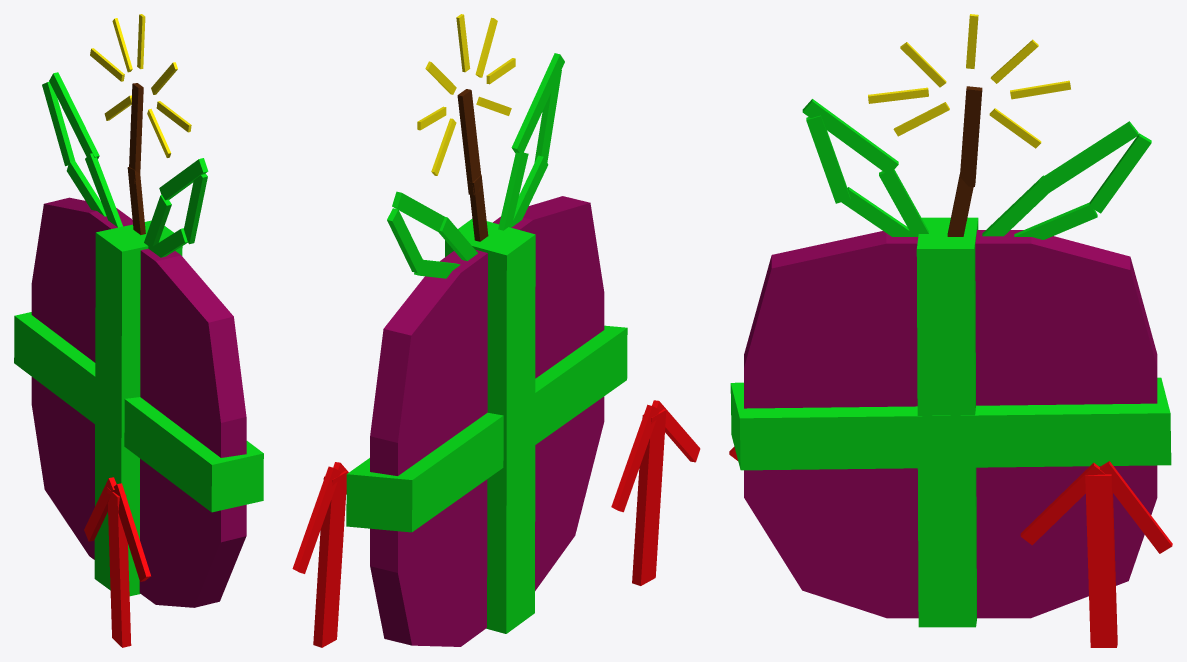
The model's file is BoomJumppowerUPicon3.fbx.
The picture shows the model from 3 angles, left to right: view 1: azimuth 30°, elevation 25°; view 2: azimuth 150°, elevation 25°; view 3: azimuth 270°, elevation 25°; orthographic projection. The views are drawn at different scales.
Visible parts, largest first — view 1: Cube, Cube.002, Cube.001, Cube.020, Cube.022, Cube.008, Cube.012, Cube.007, Cube.003, Cube.010, Cube.009, Cube.011 (+6 smaller); view 2: Cube, Cube.001, Cube.002, Cube.020, Cube.023, Cube.024, Cube.021, Cube.012, Cube.009, Cube.004, Cube.007, Cube.010 (+6 smaller); view 3: Cube, Cube.002, Cube.001, Cube.023, Cube.008, Cube.009, Cube.024, Cube.012, Cube.025, Cube.010, Cube.007, Cube.003 (+4 smaller).
Boxes of the visible parts, <box> form: Cube: <box>31,197,246,607</box>; Cube.002: <box>14,312,263,512</box>; Cube.001: <box>94,220,182,596</box>; Cube.020: <box>107,487,131,647</box>; Cube.022: <box>113,483,150,581</box>; Cube.008: <box>49,72,99,158</box>; Cube.012: <box>129,83,143,183</box>; Cube.007: <box>42,82,75,166</box>; Cube.003: <box>85,153,122,227</box>; Cube.010: <box>184,173,207,244</box>; Cube.009: <box>159,158,208,200</box>; Cube.011: <box>127,167,145,234</box>; Cube: <box>370,196,604,646</box>; Cube.001: <box>445,219,535,633</box>; Cube.002: <box>346,325,627,532</box>; Cube.020: <box>632,409,666,585</box>; Cube.023: <box>313,471,347,647</box>; Cube.024: <box>292,466,340,573</box>; Cube.021: <box>611,404,659,512</box>; Cube.012: <box>457,89,482,195</box>; Cube.009: <box>511,53,564,153</box>; Cube.004: <box>498,152,528,230</box>; Cube.007: <box>387,208,422,272</box>; Cube.010: <box>534,70,561,162</box>; Cube: <box>744,230,1157,618</box>; Cube.002: <box>730,377,1171,470</box>; Cube.001: <box>916,217,978,627</box>; Cube.023: <box>1085,474,1117,647</box>; Cube.008: <box>1039,121,1138,193</box>; Cube.009: <box>802,99,898,175</box>; Cube.024: <box>1100,461,1172,553</box>; Cube.012: <box>960,86,982,186</box>; Cube.025: <box>1020,462,1105,545</box>; Cube.010: <box>806,115,850,203</box>; Cube.007: <box>1089,133,1151,213</box>; Cube.003: <box>982,175,1047,236</box>.
Bounding box in the file's own units: 109 × 323 × 215.
